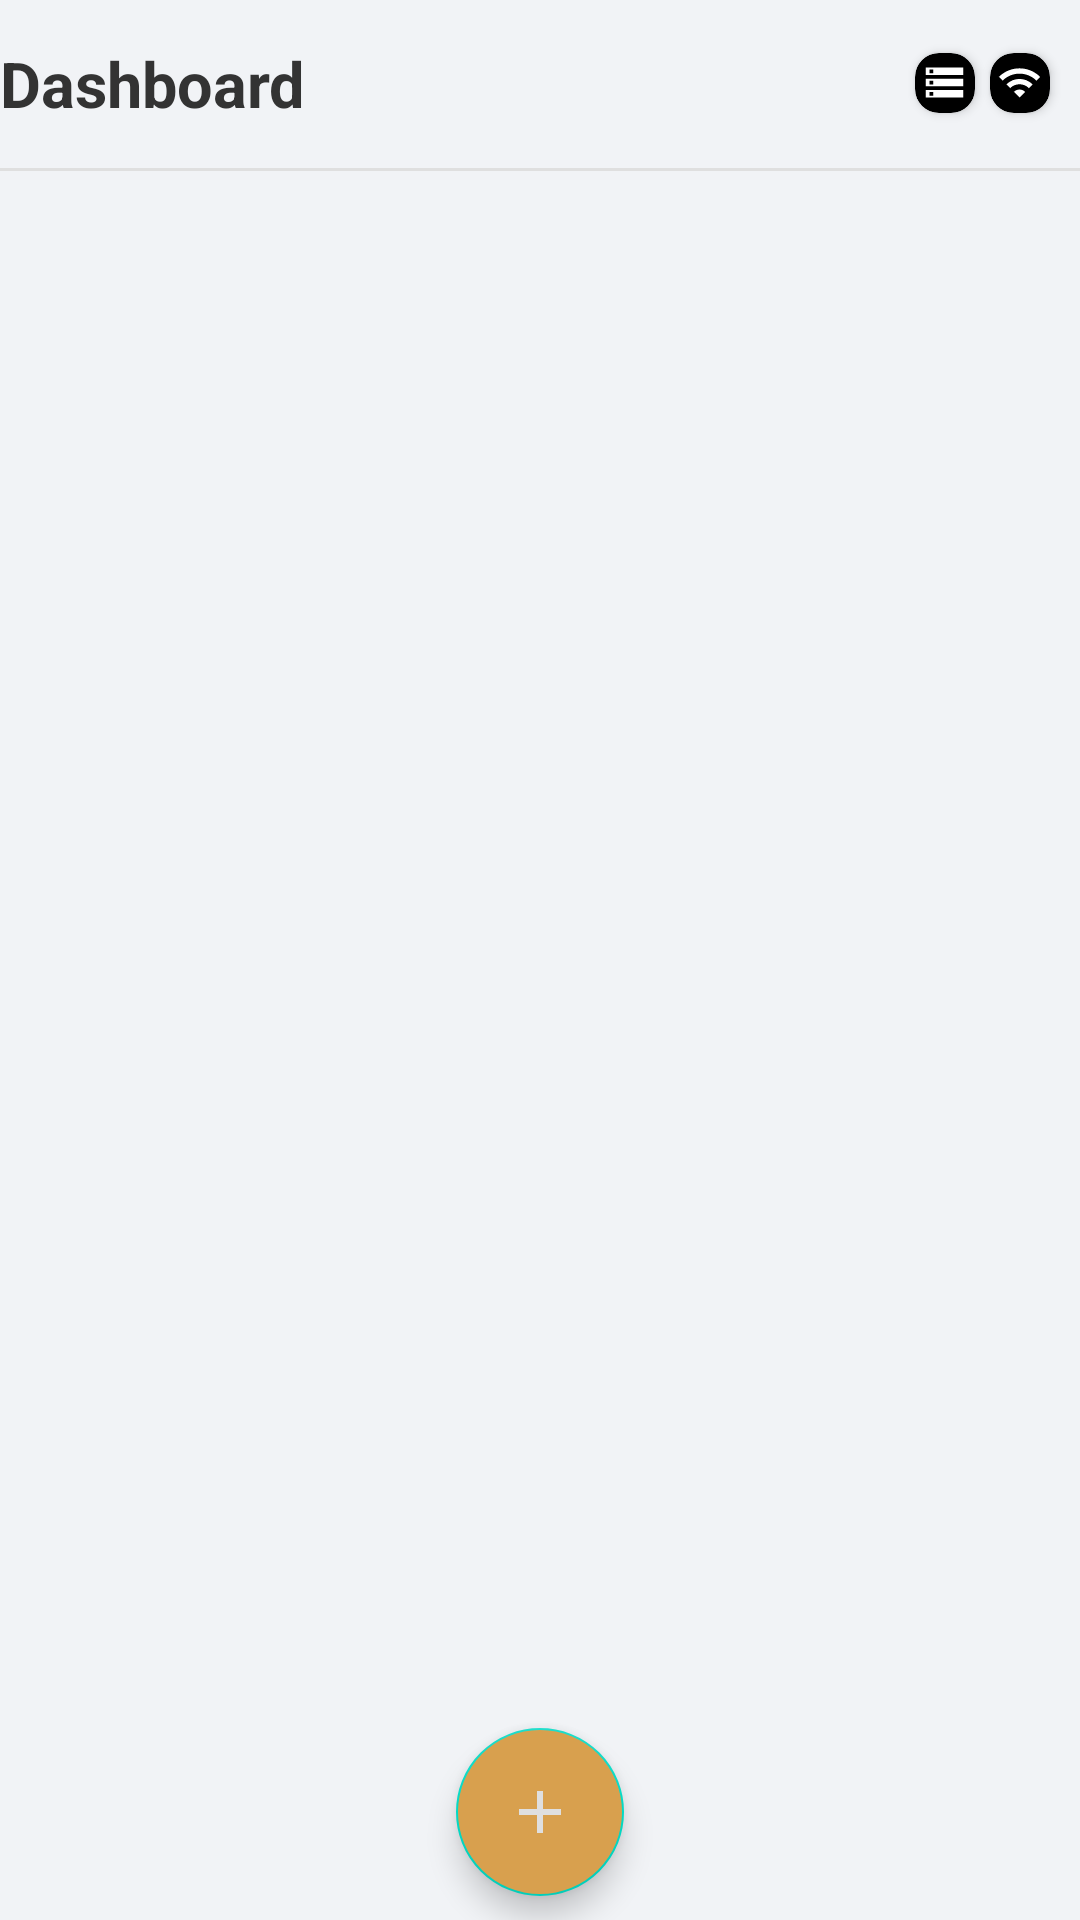

Locate icon controls on the screen. Image size 1080 × 1920, boxes as (x1, y1, x2, y2).
add: (456, 1728, 624, 1896)
storage: (925, 67, 964, 98)
wifi: (999, 68, 1040, 98)
